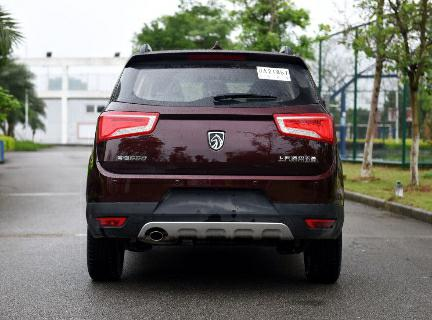宝骏-730: (82, 50, 349, 289)
